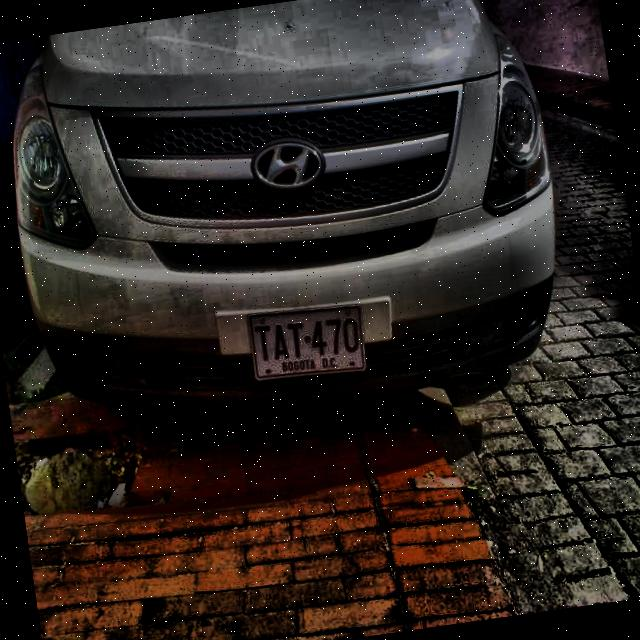plate: (248, 308, 365, 379)
